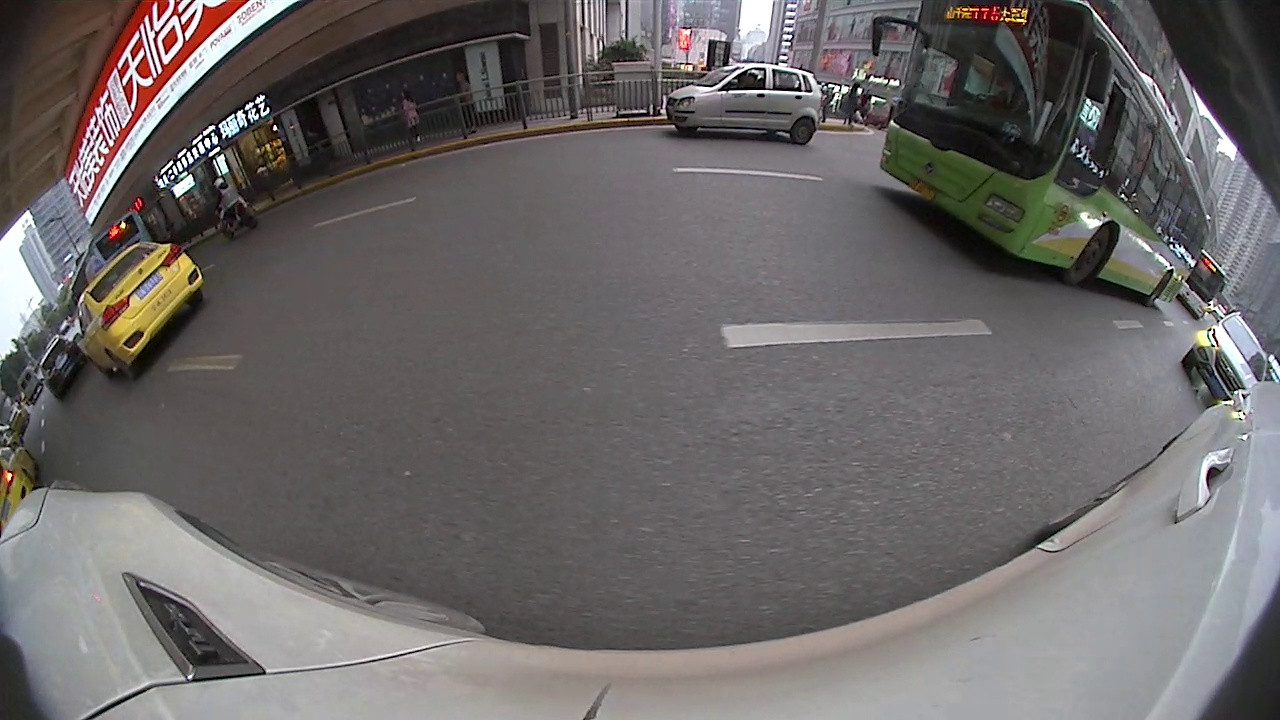bus: (883, 0, 1212, 308)
car: (69, 230, 204, 381), (663, 63, 826, 147), (1179, 307, 1271, 406), (36, 333, 84, 396)
front: (1069, 219, 1115, 283)
rear: (791, 118, 818, 146)
rider: (208, 181, 252, 242)
